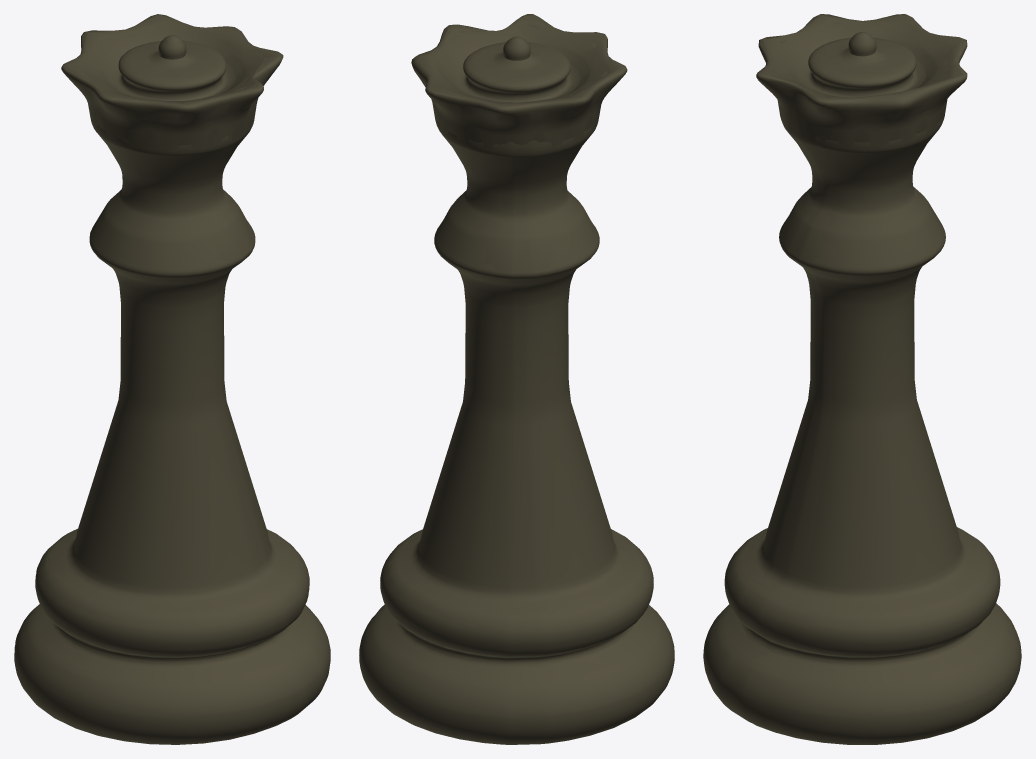
The model's file is white-queen.obj.
3 renders of one model, left to right at view 1: azimuth 30°, elevation 25°; view 2: azimuth 150°, elevation 25°; view 3: azimuth 270°, elevation 25°, orthographic.
Visible parts, largest first — view 1: Plane.001; view 2: Plane.001; view 3: Plane.001.
Boxes of the visible parts, box(x1,y1,x2,y2) form: Plane.001: box(14, 14, 330, 744); Plane.001: box(359, 14, 674, 744); Plane.001: box(703, 14, 1021, 744).
Bounding box in the file's own units: 1.57 × 3.6 × 1.57.
